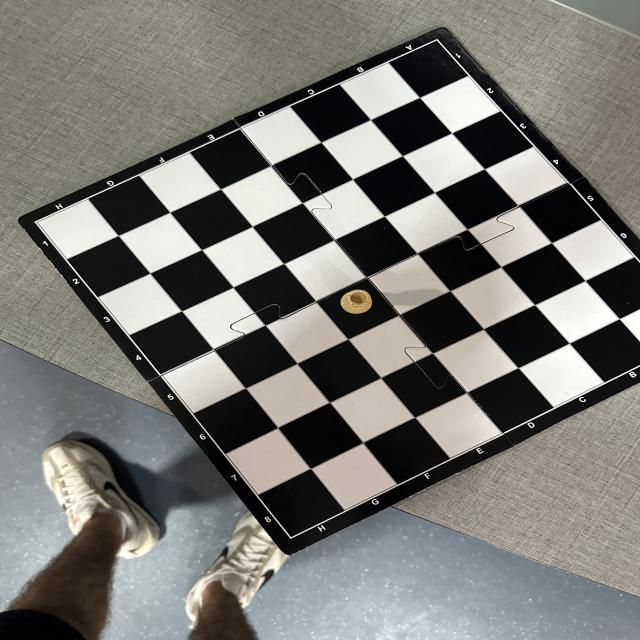White-Rook: (340, 289, 373, 315)
